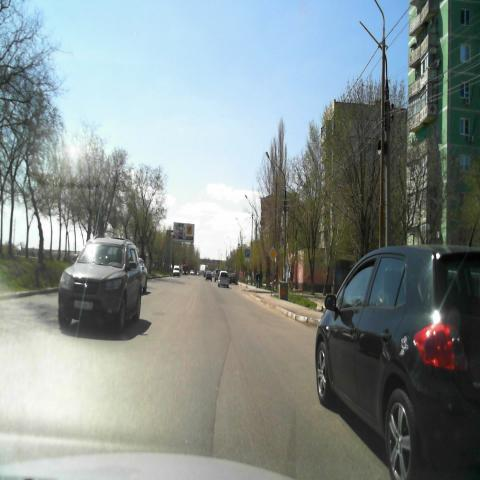2_1: (269, 247, 277, 262)
6_4: (245, 248, 250, 257)
